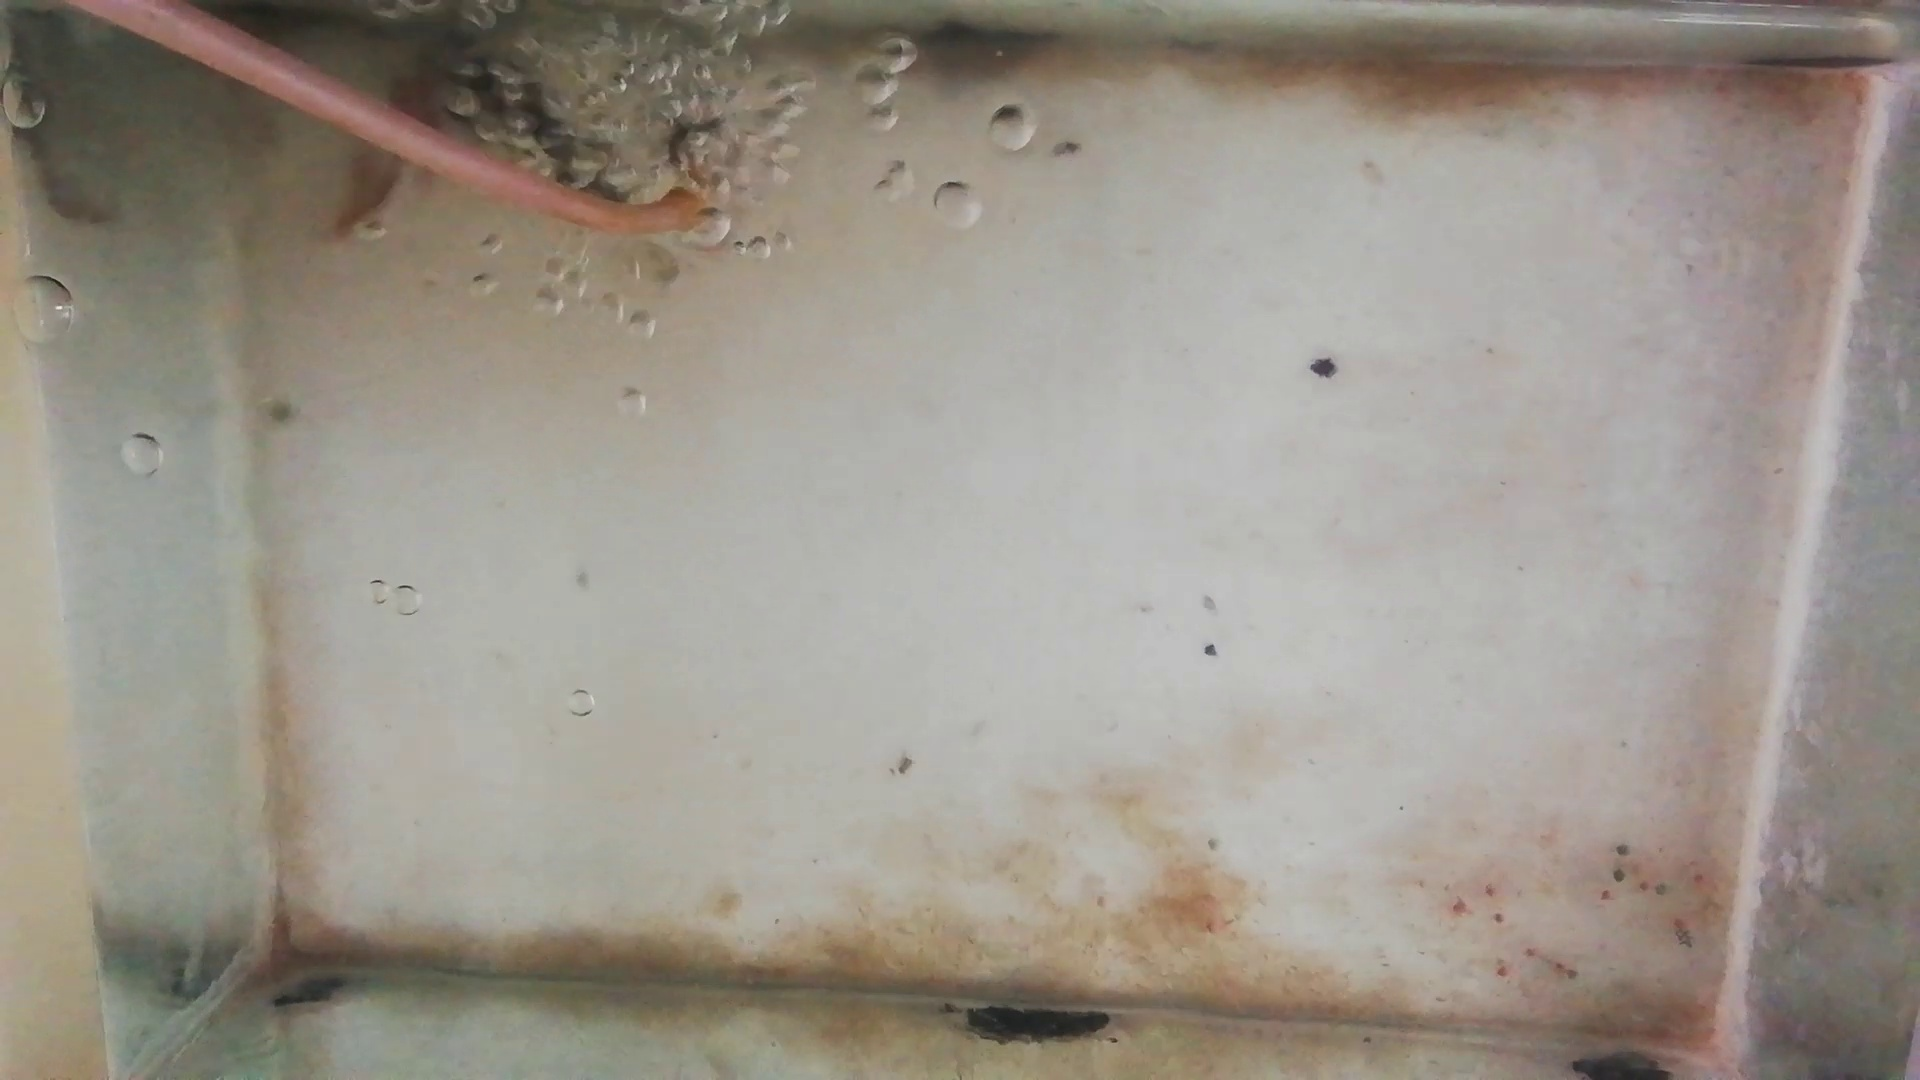fish: (438, 33, 626, 191), (338, 71, 429, 236)
